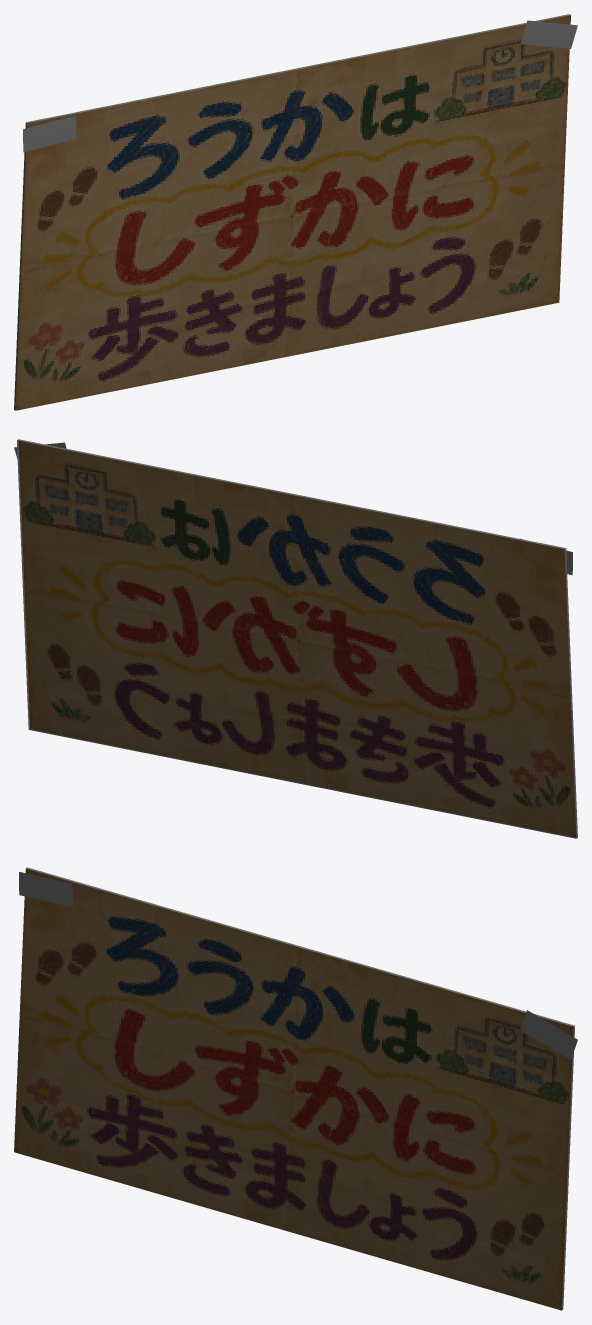
File: prop_poster-rouka-2.glb
3 views of the same model, one above another, from view 1: azimuth 30°, elevation 25°; view 2: azimuth 150°, elevation 25°; view 3: azimuth 330°, elevation 25° (orthographic).
Parts seen in each view (by area): view 1: prop_poster-rouka-2; view 2: prop_poster-rouka-2; view 3: prop_poster-rouka-2.
Boxes of the visible parts, x1,y1,x2,y2 form: prop_poster-rouka-2: (14, 14, 577, 410); prop_poster-rouka-2: (14, 439, 577, 838); prop_poster-rouka-2: (14, 867, 577, 1310).
Bounding box in the file's own units: 0.6334 × 0.3334 × 0.0055.
2 materials, 2 textured.
